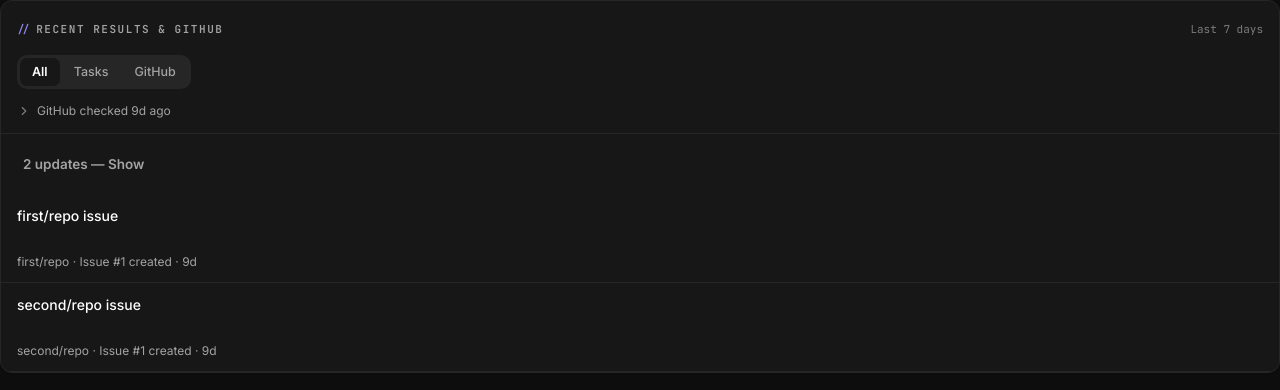
still advertises real reordering after removing a GitHub row
The image size is (1280, 390).
Step 1. Click the button "2 updates — Show" → (84, 164), box x1=9 y1=142 x2=158 y2=186
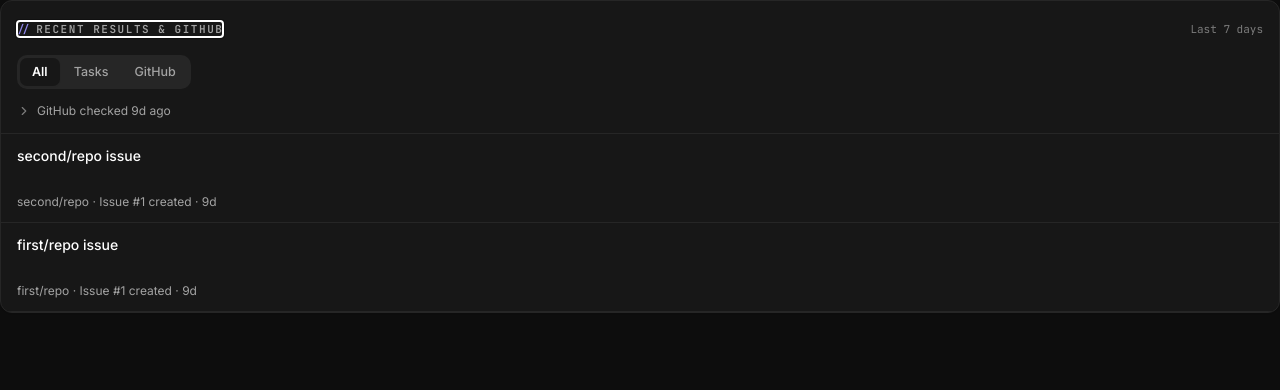
Check: the links read "second/repo issue", "first/repo issue", in this order, box x1=17 y1=147 x2=141 y2=164; x1=17 y1=236 x2=118 y2=253
